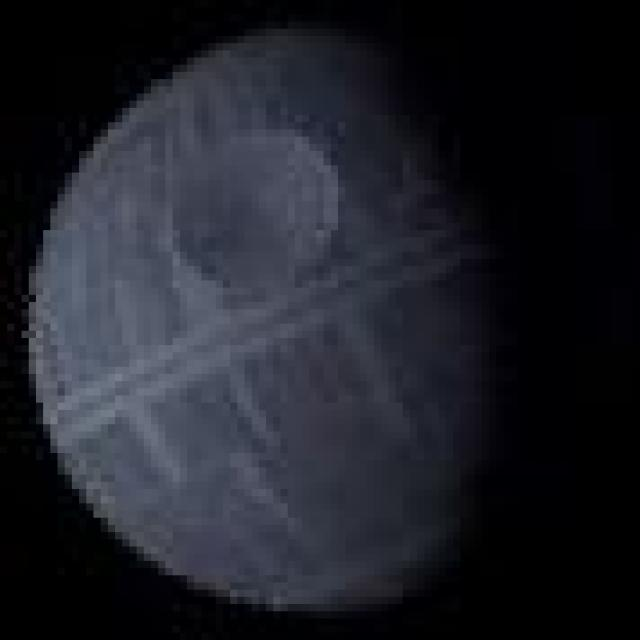Death Star: (14, 14, 503, 618)
